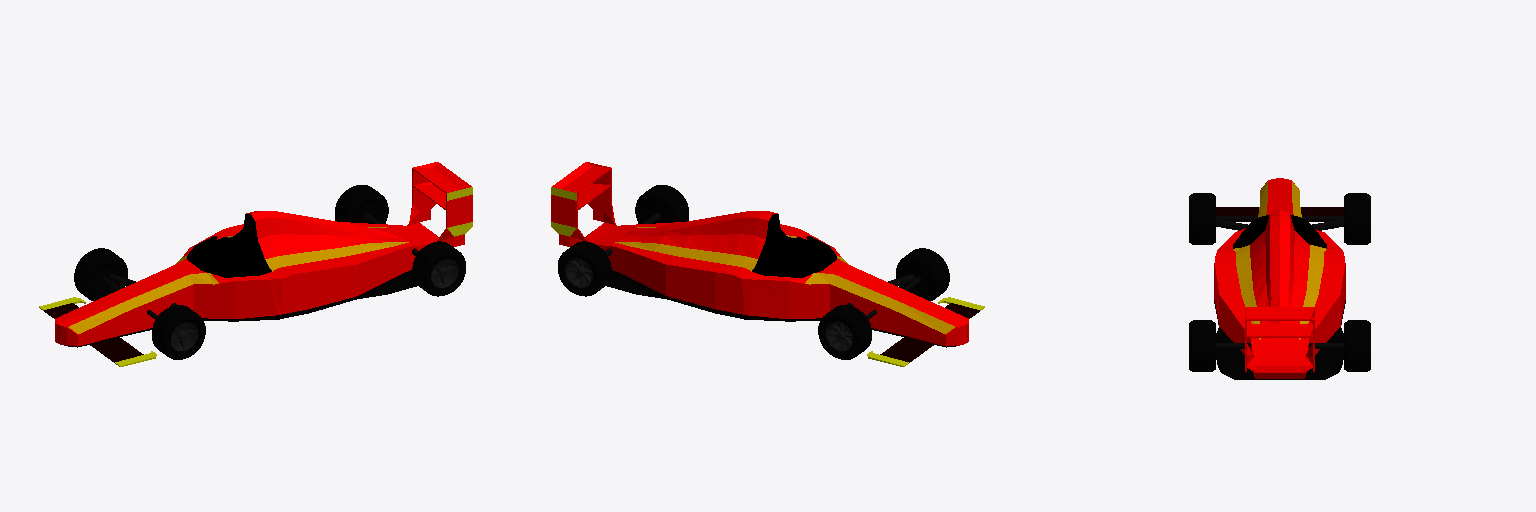
The model's file is RandomRaceCar.obj.
3 views of the same model, side by side, from view 1: azimuth 30°, elevation 25°; view 2: azimuth 150°, elevation 25°; view 3: azimuth 270°, elevation 25° (orthographic).
Parts seen in each view (by area): view 1: Car_Cube, Cylinder.003, Cylinder, Cylinder.002, Cylinder.001; view 2: Car_Cube, Cylinder.001, Cylinder.002, Cylinder, Cylinder.003; view 3: Car_Cube, Cylinder, Cylinder.001, Cylinder.002, Cylinder.003.
Part boxes in pixels (x1,y1,x2,y2): Car_Cube: (39,162,472,366); Cylinder.003: (412,241,465,296); Cylinder: (152,305,205,359); Cylinder.002: (74,248,127,300); Cylinder.001: (335,185,388,223); Car_Cube: (551,162,984,366); Cylinder.001: (558,241,611,296); Cylinder.002: (818,305,871,359); Cylinder: (896,248,949,300); Cylinder.003: (635,185,688,223); Car_Cube: (1214,178,1345,379); Cylinder: (1189,193,1215,244); Cylinder.001: (1344,320,1370,371); Cylinder.002: (1344,193,1370,244); Cylinder.003: (1189,320,1215,371).
Bounding box in the file's own units: 43.78 × 9.12 × 17.27.